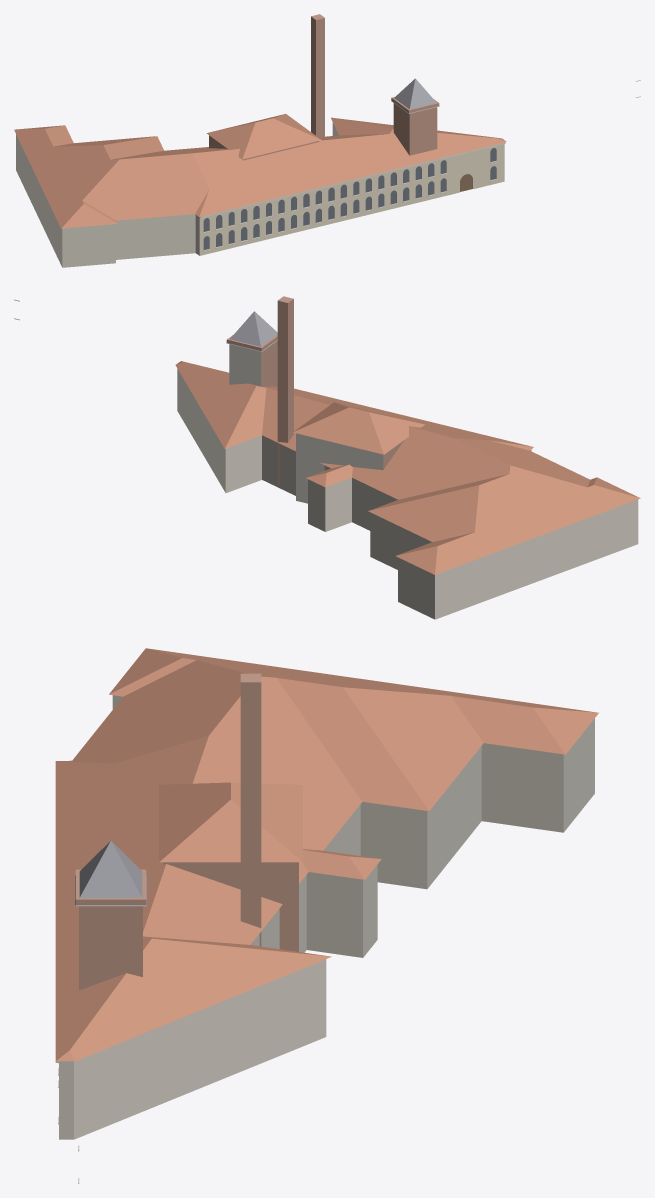
3 renders of one model, top to bottom at view 1: azimuth 30°, elevation 25°; view 2: azimuth 150°, elevation 25°; view 3: azimuth 270°, elevation 25°, orthographic. The views are drawn at different scales.
Parts seen in each view (by area): view 1: CP_1041_Roof, CP_1041_Masonry, CP_1041_VolRoof_brewhouse, CP_1041_Vol_tower, CP_1041_Chimney_0, CP_1041_VolRoof_tower, CP_1041_Cornice_main_eave_0; view 2: CP_1041_Roof, CP_1041_Masonry, CP_1041_VolRoof_brewhouse, CP_1041_Vol_brewhouse, CP_1041_Chimney_0, CP_1041_Vol_tower, CP_1041_VolRoof_tower; view 3: CP_1041_Roof, CP_1041_Masonry, CP_1041_VolRoof_brewhouse, CP_1041_Chimney_0, CP_1041_Vol_tower, CP_1041_Vol_brewhouse, CP_1041_VolRoof_tower, CP_1041_Crenellation.
Boxes of the visible parts, x1,y1,x2,y2 form: CP_1041_Roof: [14, 117, 506, 228]; CP_1041_Masonry: [16, 122, 504, 267]; CP_1041_VolRoof_brewhouse: [206, 114, 321, 159]; CP_1041_Vol_tower: [393, 103, 437, 155]; CP_1041_Chimney_0: [311, 14, 324, 137]; CP_1041_VolRoof_tower: [391, 78, 439, 113]; CP_1041_Cornice_main_eave_0: [199, 142, 505, 217]; CP_1041_Roof: [175, 361, 640, 574]; CP_1041_Masonry: [177, 369, 638, 619]; CP_1041_VolRoof_brewhouse: [293, 402, 424, 454]; CP_1041_Vol_brewhouse: [296, 433, 404, 503]; CP_1041_Chimney_0: [277, 296, 293, 486]; CP_1041_Vol_tower: [229, 341, 277, 386]; CP_1041_VolRoof_tower: [226, 311, 277, 351]; CP_1041_Roof: [55, 648, 598, 1061]; CP_1041_Masonry: [59, 695, 594, 1139]; CP_1041_VolRoof_brewhouse: [159, 782, 302, 862]; CP_1041_Chimney_0: [240, 673, 261, 946]; CP_1041_Vol_tower: [79, 906, 142, 990]; CP_1041_Vol_brewhouse: [163, 862, 298, 951]; CP_1041_VolRoof_tower: [75, 841, 146, 906]; CP_1041_Crenellation: [75, 869, 146, 904].
Bounding box in the file's own units: 162 × 45 × 67.91.
